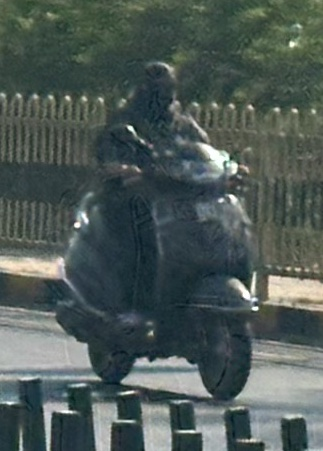BikeWithRider: (49, 52, 272, 399)
NoHelmet: (132, 56, 183, 118)
